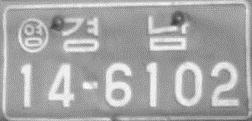-: (78, 75, 102, 96)
0: (173, 61, 202, 107)
1: (12, 61, 42, 109), (139, 62, 165, 108)
2: (210, 59, 240, 108)
4: (46, 63, 75, 107)
6: (104, 62, 132, 108)
경남_D: (60, 14, 189, 53)
영: (16, 17, 49, 54)
